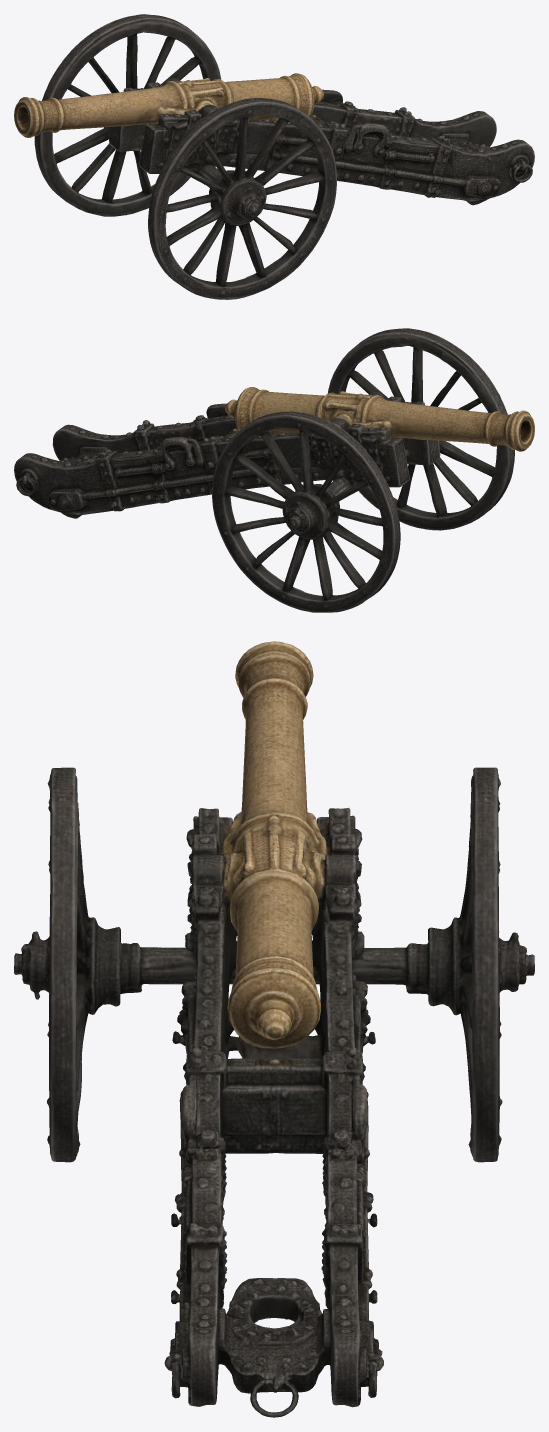
File: colonial_cannon.glb
3 views of the same model, one above another, from view 1: azimuth 30°, elevation 25°; view 2: azimuth 150°, elevation 25°; view 3: azimuth 270°, elevation 25° (orthographic). The views are drawn at different scales.
Parts seen in each view (by area): view 1: Meshy_AI_Bronze_Field_Cannon_0813184016_texture.001; view 2: Meshy_AI_Bronze_Field_Cannon_0813184016_texture.001; view 3: Meshy_AI_Bronze_Field_Cannon_0813184016_texture.001.
Part boxes in pixels (left/top/right/bottom): Meshy_AI_Bronze_Field_Cannon_0813184016_texture.001: left=14, top=14, right=534, bottom=299; Meshy_AI_Bronze_Field_Cannon_0813184016_texture.001: left=14, top=328, right=534, bottom=612; Meshy_AI_Bronze_Field_Cannon_0813184016_texture.001: left=14, top=641, right=534, bottom=1417.
Bounding box in the file's own units: 1.9 × 0.7154 × 0.9388.
1 material, 1 textured.
